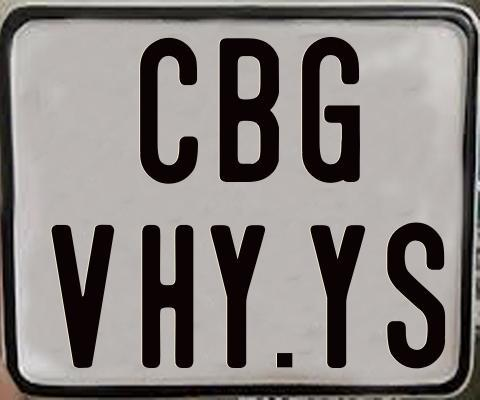B: (218, 38, 278, 183)
C: (140, 38, 201, 189)
G: (300, 35, 360, 186)
H: (139, 223, 196, 368)
S: (386, 219, 447, 369)
V: (50, 223, 114, 366)
Y: (207, 225, 266, 370), (308, 224, 363, 368)
